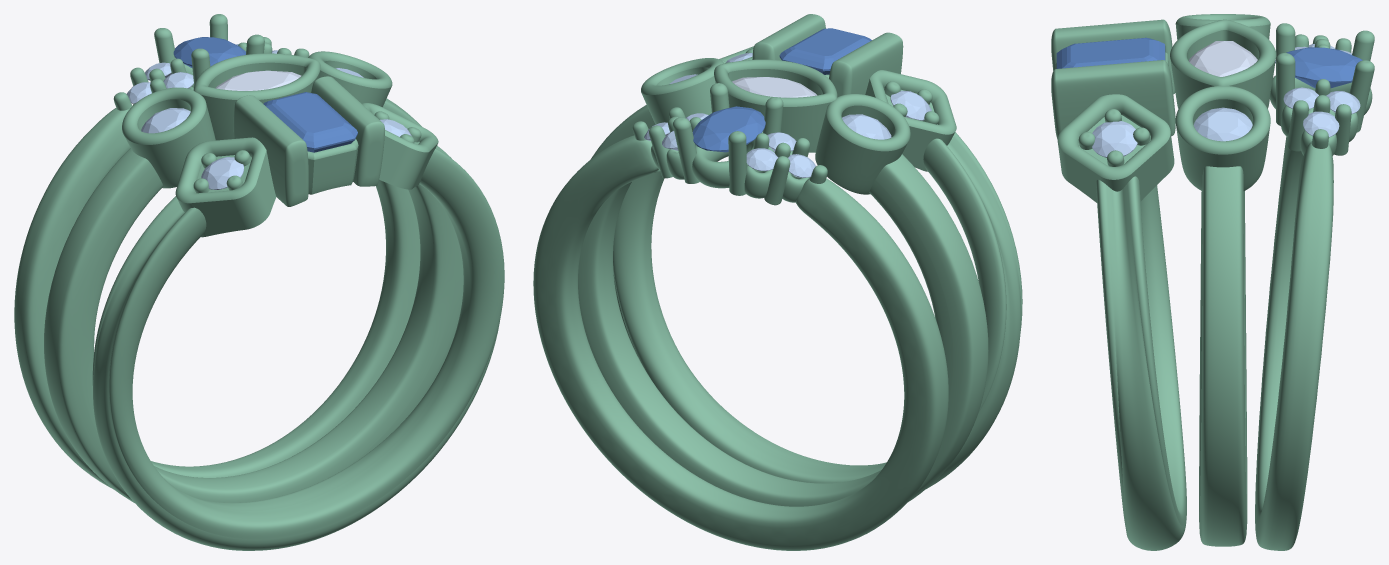
3 renders of one model, left to right at view 1: azimuth 30°, elevation 25°; view 2: azimuth 150°, elevation 25°; view 3: azimuth 270°, elevation 25°, orthographic. The views are drawn at different scales.
Visible parts, largest first — view 1: BTMR.3dm, Gem (×4), Diamond_Oval, Head Prong; view 2: BTMR.3dm, Gem (×4), Head Prong (×3), Diamond_Oval, Head Rail, Bezel, Diamond_Round; view 3: BTMR.3dm, Gem (×4), Head Prong (×4), Diamond_Oval, Diamond_Round (×3), Head Rail.
Boxes of the visible parts, bbox=[...] form: BTMR.3dm: bbox=[14, 37, 504, 550]; Gem (×4): bbox=[141, 70, 357, 189]; Diamond_Oval: bbox=[173, 37, 245, 67]; Head Prong: bbox=[154, 28, 175, 63]; BTMR.3dm: bbox=[533, 14, 1022, 550]; Gem (×4): bbox=[732, 28, 931, 139]; Head Prong (×3): bbox=[673, 97, 783, 195]; Diamond_Oval: bbox=[692, 106, 765, 152]; Head Rail: bbox=[692, 131, 762, 188]; Bezel: bbox=[744, 165, 772, 198]; Diamond_Round: bbox=[746, 148, 778, 171]; BTMR.3dm: bbox=[1051, 14, 1351, 550]; Gem (×4): bbox=[1056, 37, 1257, 157]; Head Prong (×4): bbox=[1276, 23, 1374, 132]; Diamond_Oval: bbox=[1275, 47, 1362, 88]; Diamond_Round (×3): bbox=[1283, 87, 1360, 137]; Head Rail: bbox=[1270, 75, 1372, 114].
Bounding box in the file's own units: 2.53 × 2.66 × 1.6.
